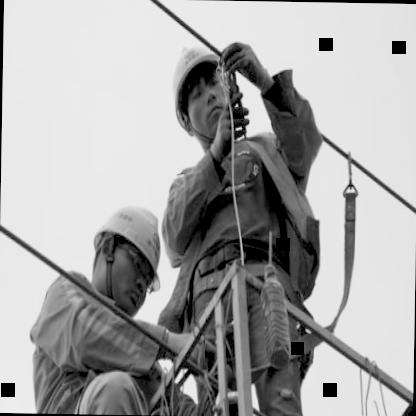helmet: (82, 187, 170, 314), (162, 32, 239, 158)
